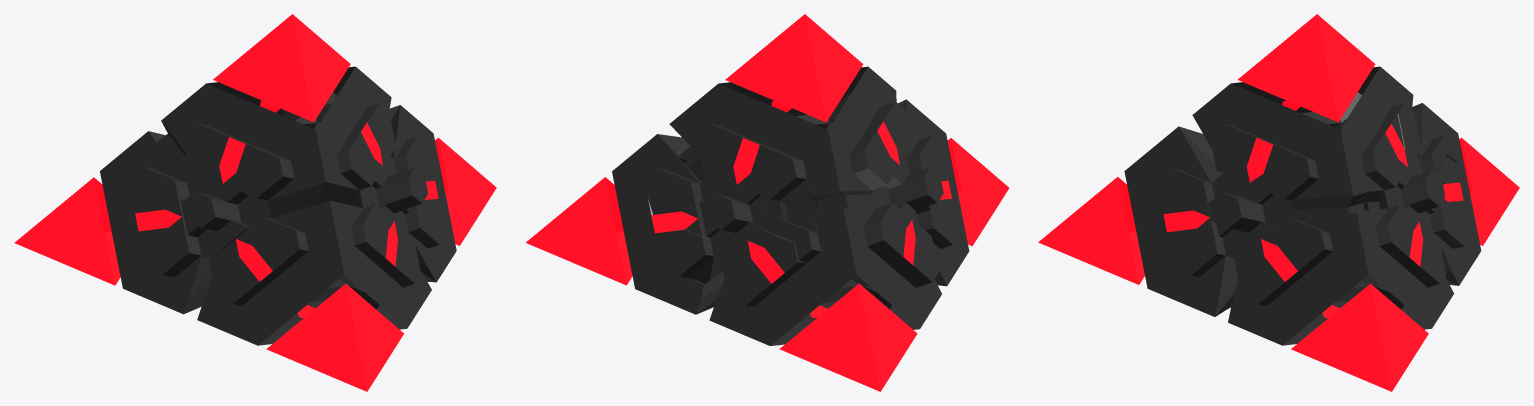
Rendered from tothian_mine_extra_red_small.glb.
3 renders of one model, left to right at view 1: azimuth 30°, elevation 25°; view 2: azimuth 150°, elevation 25°; view 3: azimuth 270°, elevation 25°, orthographic.
Visible parts, largest first — view 1: Cone; view 2: Cone; view 3: Cone.
Boxes of the visible parts, x1,y1,x2,y2 form: Cone: (14, 14, 496, 391); Cone: (525, 14, 1009, 391); Cone: (1038, 14, 1519, 391).
Bounding box in the file's own units: 0.3346 × 0.2186 × 0.3336.
